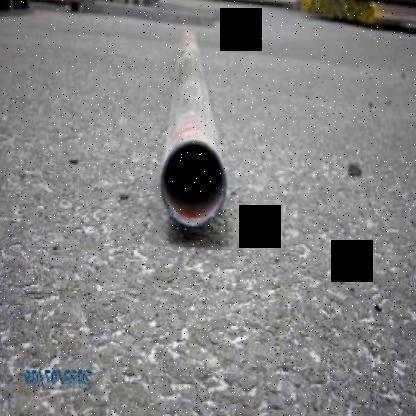pipe: (160, 138, 226, 228)
